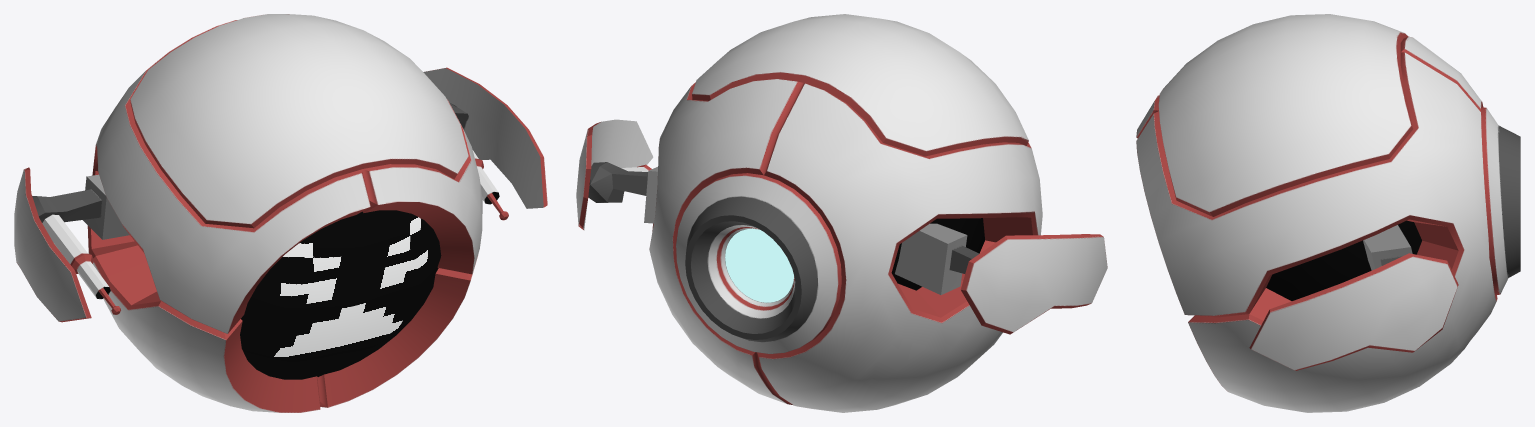
The model's file is Monster 1.glb.
3 views of the same model, side by side, from view 1: azimuth 30°, elevation 25°; view 2: azimuth 150°, elevation 25°; view 3: azimuth 270°, elevation 25° (orthographic).
Parts seen in each view (by area): view 1: Drone_Body, Drone_light, Screen, Drone_Guns; view 2: Drone_Body, Drone_light, Drone_Guns; view 3: Drone_Body, Drone_light, Drone_Guns.
Boxes of the visible parts, box(x1,y1,x2,y2) form: Drone_Body: box(87, 20, 482, 412); Drone_light: box(130, 14, 468, 228); Screen: box(240, 210, 441, 379); Drone_Guns: box(14, 67, 547, 322); Drone_Body: box(649, 79, 1042, 412); Drone_light: box(692, 14, 1028, 156); Drone_Guns: box(576, 119, 1107, 334); Drone_Body: box(1136, 36, 1520, 412); Drone_light: box(1158, 14, 1413, 216); Drone_Guns: box(1249, 225, 1458, 370).
Bounding box in the file's own units: 2.8 × 2 × 1.92.
4 materials, 2 textured.
